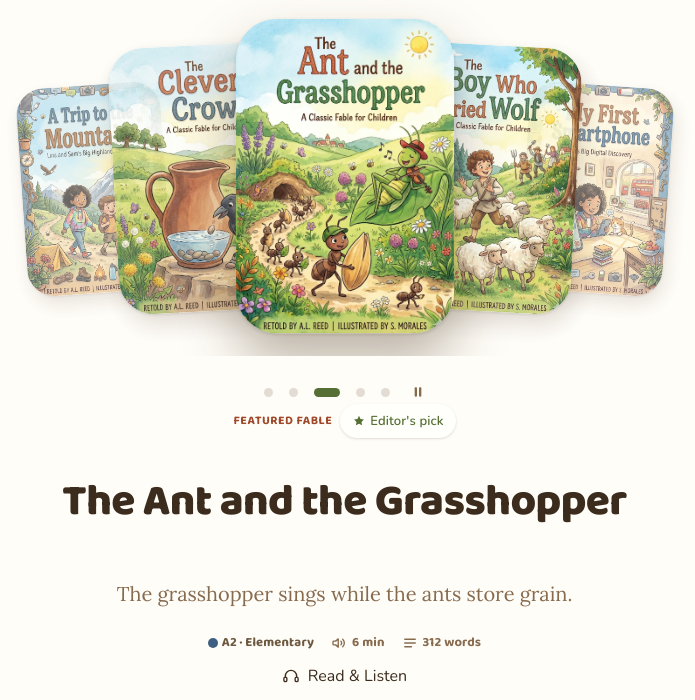
FeaturedHero › renders the editor's-pick badge only when the centred story has one
Check: the text "Editor's pick" is shown, box [340,404,456,438]
// Select a story with no badge: the pill disappears.
What coordinates should you click on to do the following:
click the button named "The Clever Crow"
I would click on:
 (293, 392)
Its box is [284,380,302,404].
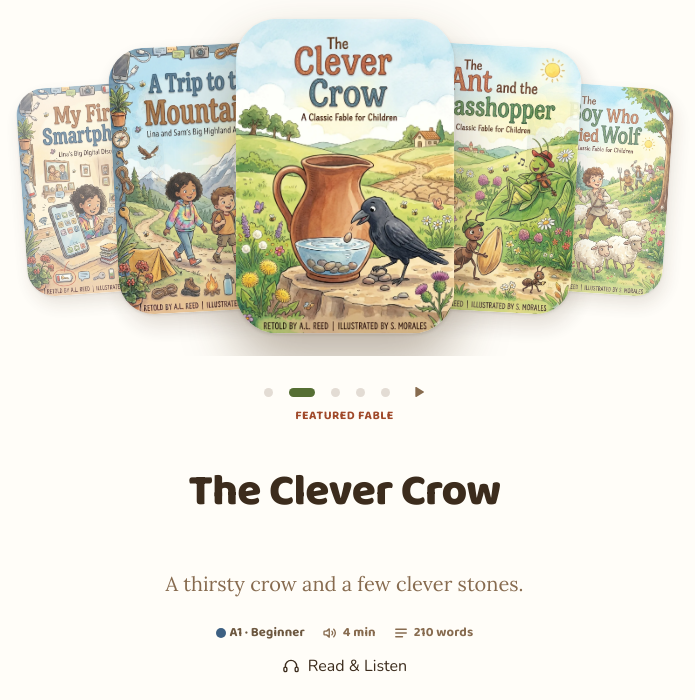
Check: the text "Editor's pick" is gone
